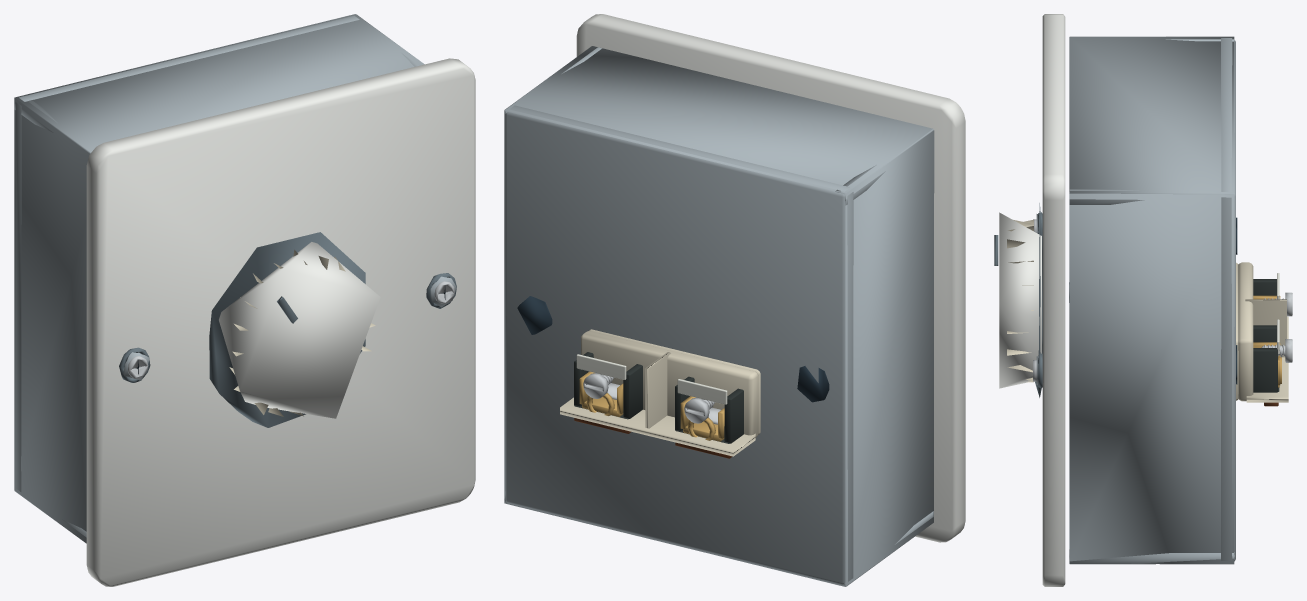
The model's file is dimmer_rotary.low.glb.
The picture shows the model from 3 angles, left to right: view 1: azimuth 30°, elevation 25°; view 2: azimuth 150°, elevation 25°; view 3: azimuth 270°, elevation 25°; orthographic projection. The views are drawn at different scales.
Visible parts, largest first — view 1: part:cover, part:body · Original 2a8198d3, part:actuator, detail:faceplate-fixing · Detail zinc plated fixing, part:cover · Original 0905ee26, motion:rotary · Original 5a609f27; view 2: part:body · Original 2a8198d3, part:cover, part:terminals · Original 5a609f27, part:body · Original a463fd81, detail:terminal-clamp:COM · Detail moulded engineering polym, detail:terminal-clamp:OUT · Detail moulded engineering polym, detail:terminal-clamp:OUT · Detail machined brass, detail:terminal-clamp:COM · Detail machined brass, Moulded terminal legend pad, Moulded terminal legend pad.001, detail:terminal-clamp:COM · Detail zinc plated fixing, detail:terminal-clamp:OUT · Detail zinc plated fixing; view 3: part:body · Original 2a8198d3, part:cover, part:actuator, part:terminals · Original 5a609f27, detail:terminal-clamp:OUT · Detail moulded engineering polym, motion:rotary · Original 5a609f27, detail:terminal-clamp:COM · Detail moulded engineering polym.
Boxes of the visible parts, x1,y1,x2,y2 form: part:cover: [86, 58, 475, 586]; part:body · Original 2a8198d3: [14, 14, 424, 543]; part:actuator: [209, 232, 380, 427]; detail:faceplate-fixing · Detail zinc plated fixing: [128, 281, 454, 378]; part:cover · Original 0905ee26: [119, 273, 456, 382]; motion:rotary · Original 5a609f27: [229, 249, 375, 416]; part:body · Original 2a8198d3: [504, 46, 934, 586]; part:cover: [576, 14, 965, 542]; part:terminals · Original 5a609f27: [560, 329, 760, 456]; part:body · Original a463fd81: [517, 296, 829, 402]; detail:terminal-clamp:COM · Detail moulded engineering polym: [675, 376, 743, 443]; detail:terminal-clamp:OUT · Detail moulded engineering polym: [574, 352, 642, 419]; detail:terminal-clamp:OUT · Detail machined brass: [579, 371, 623, 416]; detail:terminal-clamp:COM · Detail machined brass: [680, 396, 724, 441]; Moulded terminal legend pad: [677, 379, 727, 404]; Moulded terminal legend pad.001: [576, 354, 626, 379]; detail:terminal-clamp:COM · Detail zinc plated fixing: [684, 397, 720, 424]; detail:terminal-clamp:OUT · Detail zinc plated fixing: [583, 373, 619, 399]; part:body · Original 2a8198d3: [1069, 36, 1235, 564]; part:cover: [1042, 14, 1065, 586]; part:actuator: [999, 203, 1042, 397]; part:terminals · Original 5a609f27: [1236, 262, 1288, 402]; detail:terminal-clamp:OUT · Detail moulded engineering polym: [1253, 325, 1279, 392]; motion:rotary · Original 5a609f27: [1007, 219, 1033, 382]; detail:terminal-clamp:COM · Detail moulded engineering polym: [1253, 279, 1276, 295].
Bounding box in the file's own units: 0.8902 × 0.9795 × 0.644.
